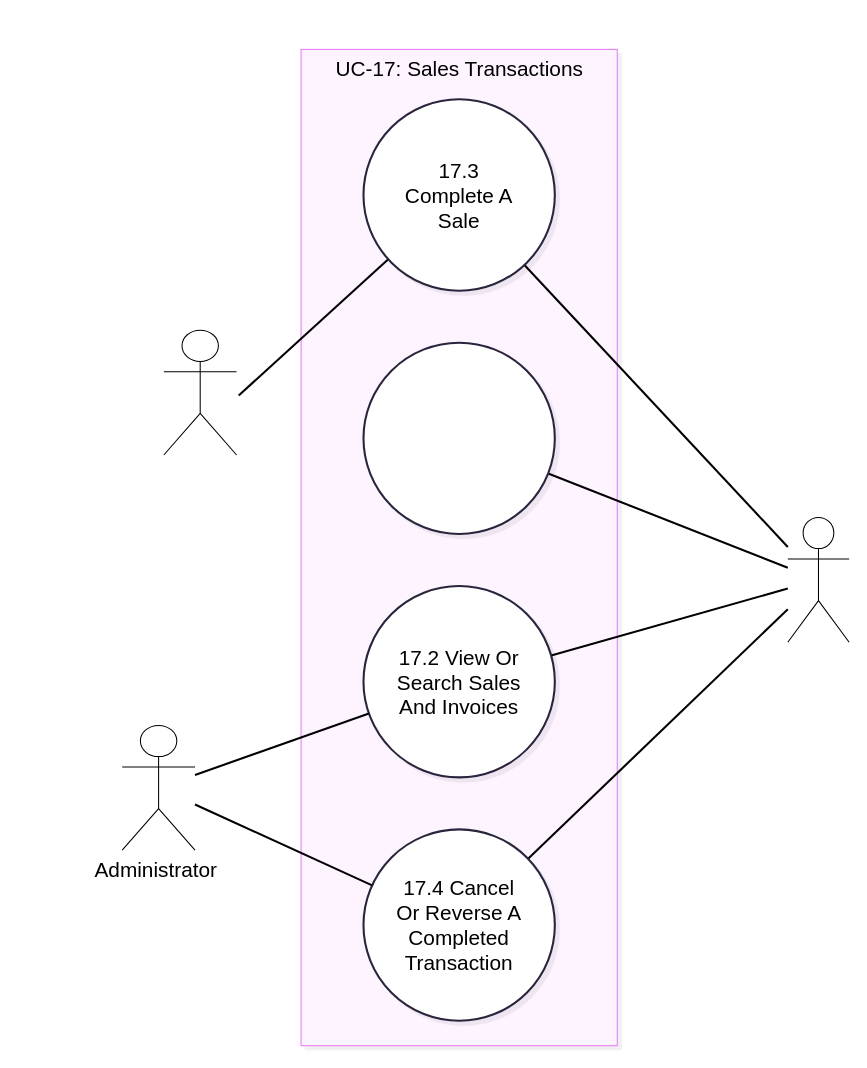
Some shapes in this 867 by 1068 pixel diagram are drawn without their labels. Each missing label, with the centre of its shape:
"17.1 Start A Sale And Manage Draft Items" belongs at [461,440].
"Counter Customer" belongs at [200,392].
"Staff" belongs at [818,579].
